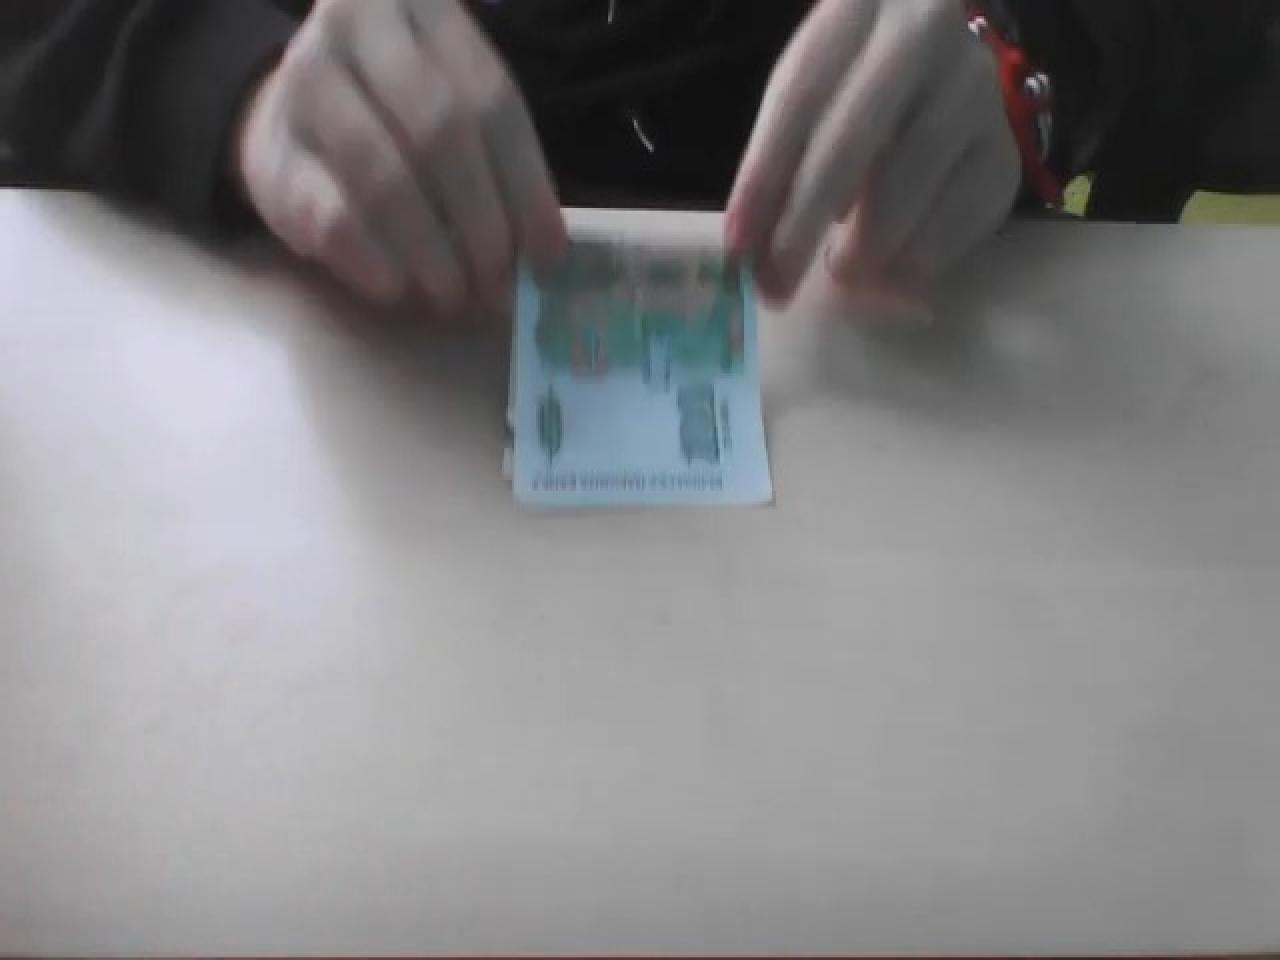100leva: (506, 208, 774, 517)
